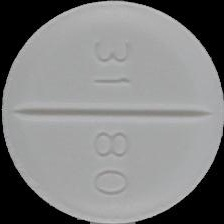51079-700: (0, 0, 224, 224)
